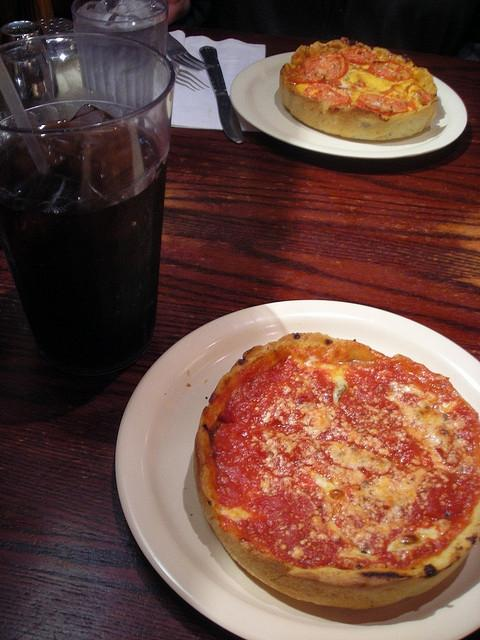tomato: (341, 354, 440, 410), (286, 52, 350, 84), (304, 83, 352, 107), (356, 94, 407, 116), (368, 60, 414, 83), (404, 82, 436, 106), (342, 47, 378, 65)
